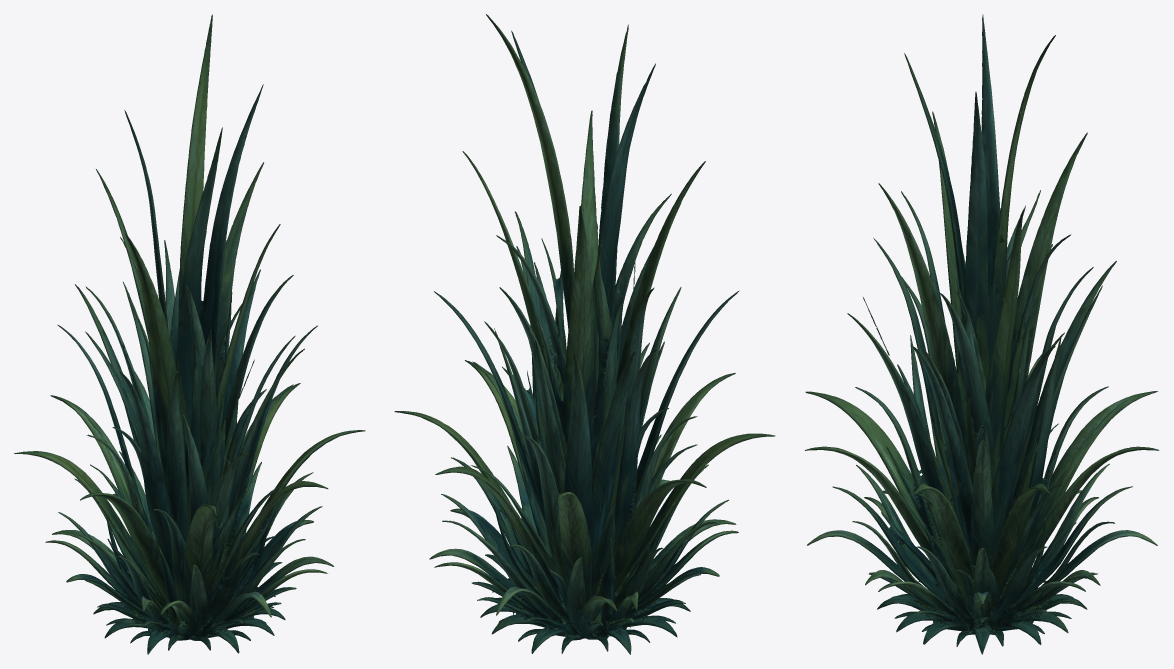
Rendered from grass02.glb.
3 views of the same model, side by side, from view 1: azimuth 30°, elevation 25°; view 2: azimuth 150°, elevation 25°; view 3: azimuth 270°, elevation 25° (orthographic). The views are drawn at different scales.
Bounding box in the file's own units: 0.9795 × 1.9 × 0.9801.
1 material, 1 textured.
